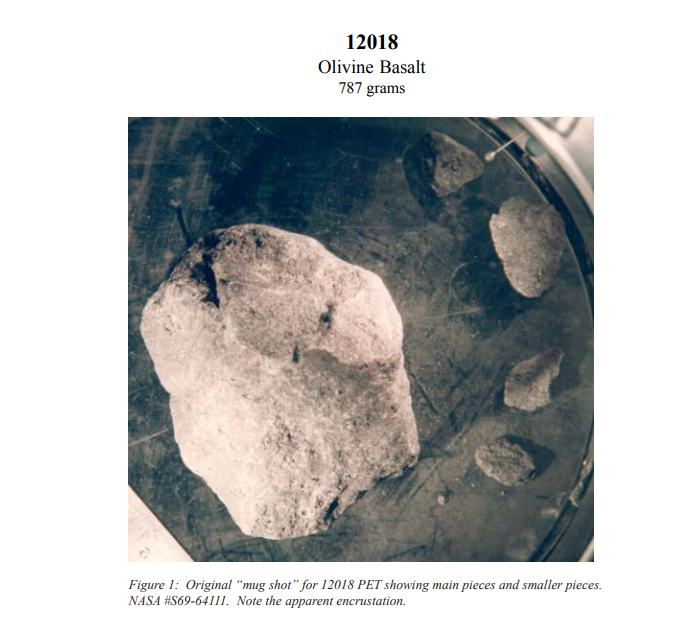Basalt: (129, 214, 429, 538), (476, 186, 569, 297), (436, 426, 565, 503), (394, 119, 491, 207), (490, 336, 575, 422)
